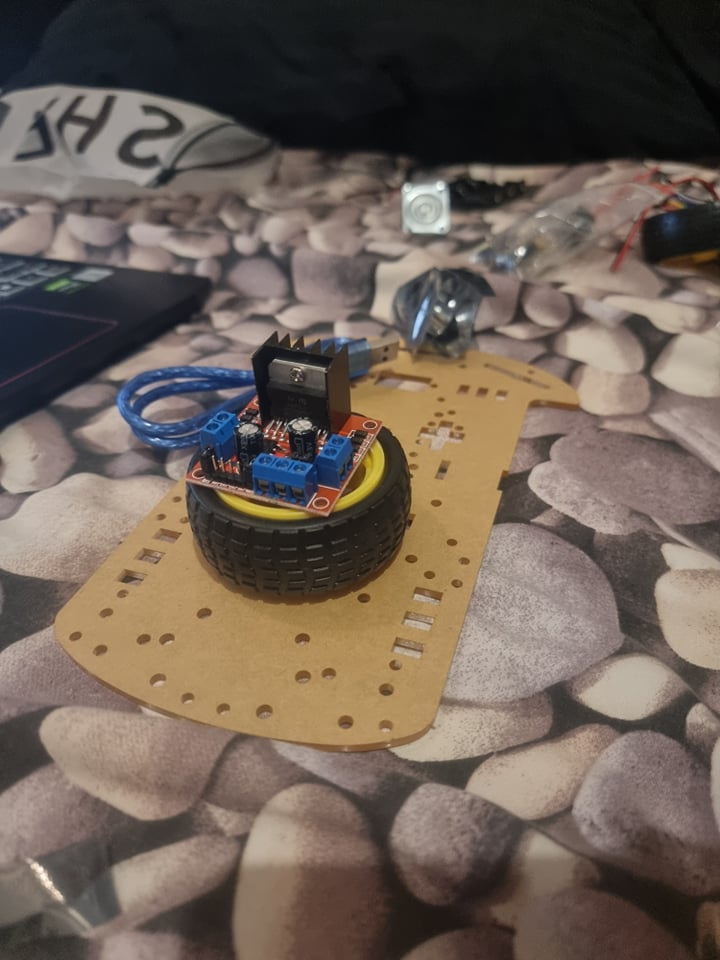MOTOR: (185, 330, 382, 519)
